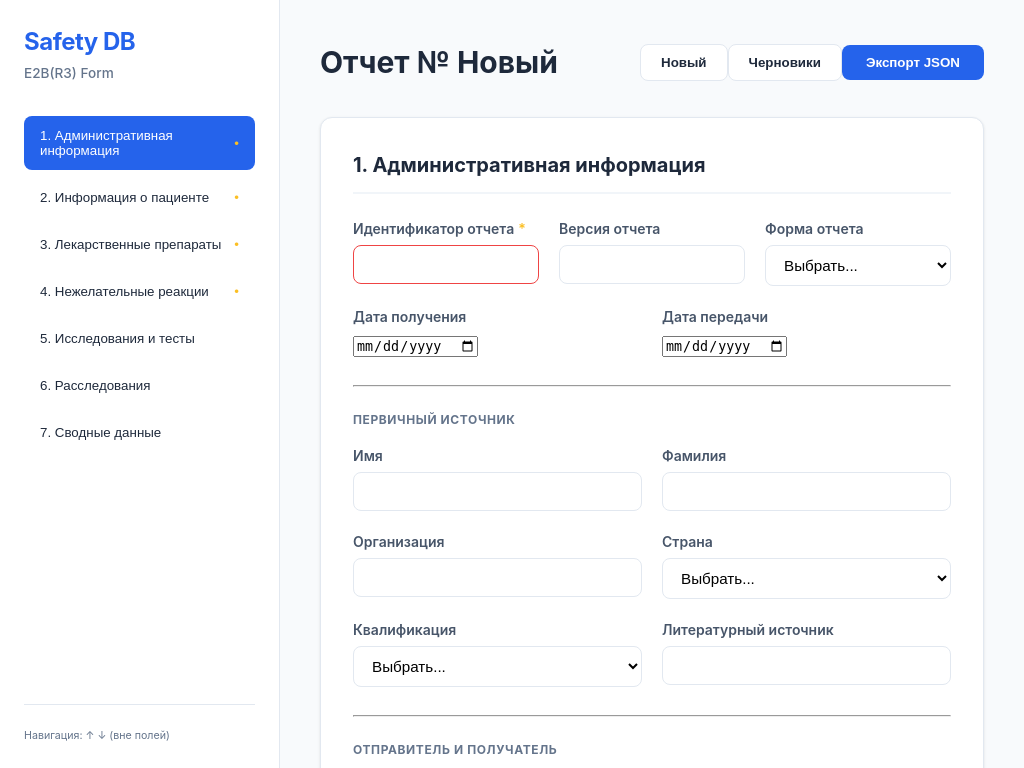
Scenario: App › заголовок отчета обновляется при вводе ID
Type "TEST-001" into the field labelled "Идентификатор отчета*" at (446, 264), box [353,245,539,284]
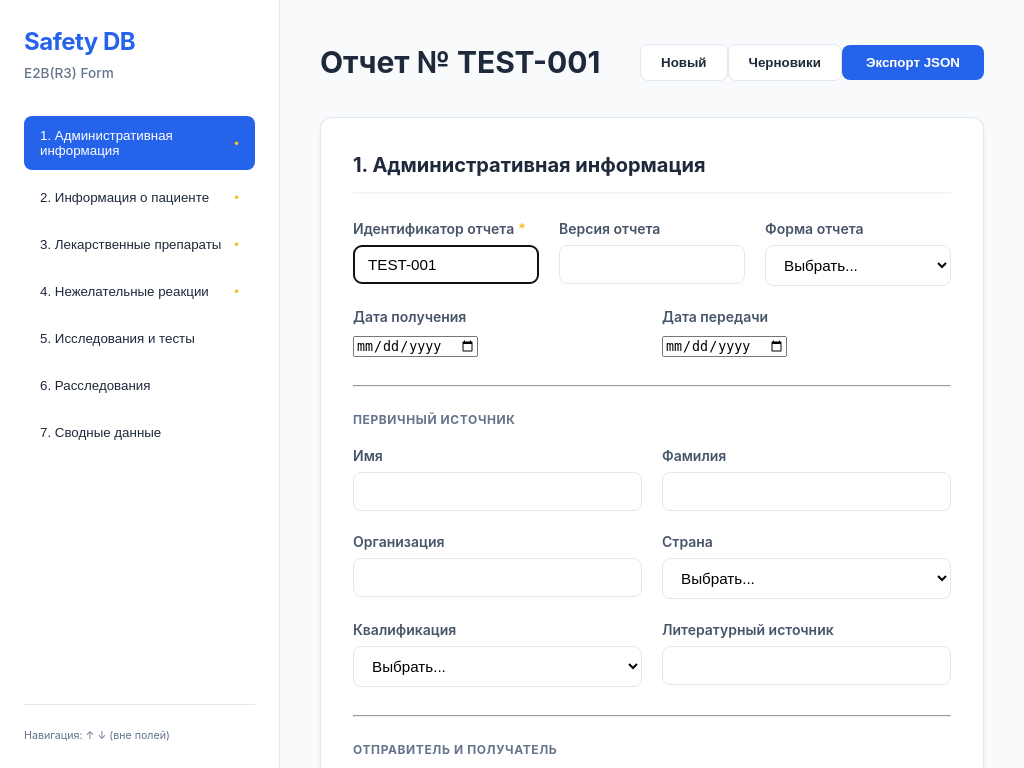
Expected: the heading "Отчет № TEST-001" is shown, [320,40,600,85]
